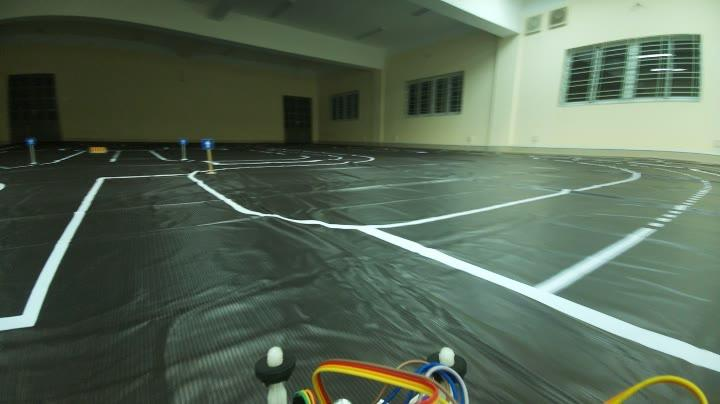onewayroad: (199, 136, 217, 148), (26, 133, 38, 148), (180, 136, 189, 145)
roadblock: (86, 144, 108, 154)
